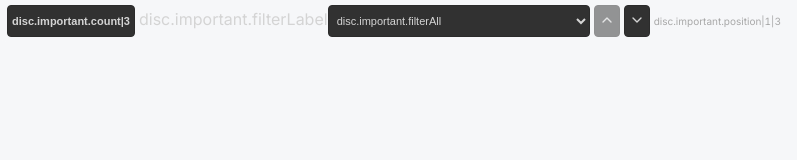
Test: ImportantMessagesBar › bounds the cursor after a refresh removes its selected card without moving the transcript
Check: the text "disc.important.position|1|3" is shown, box [654, 15, 781, 27]
Click the button named "disc.important.next": (637, 21) [624, 5, 650, 37]
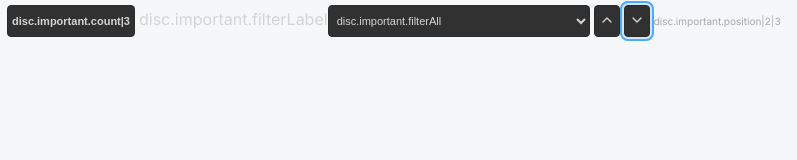
Click the button named "disc.important.next": (637, 21) [624, 5, 650, 37]
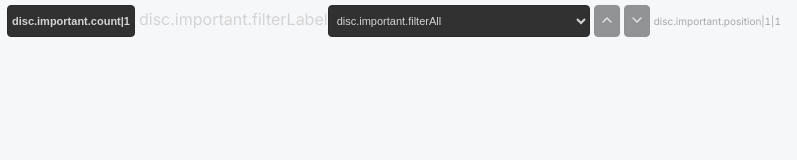
Check: the text "disc.important.position|1|1" is shown, box [654, 15, 781, 27]
Check: the button named "disc.important.previous" is disabled, box [594, 5, 620, 37]
Check: the button named "disc.important.next" is disabled, box [624, 5, 650, 37]
